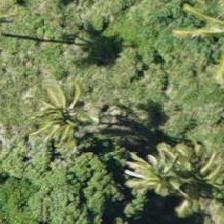coconut_tree: (130, 122, 220, 212), (17, 67, 107, 157)
